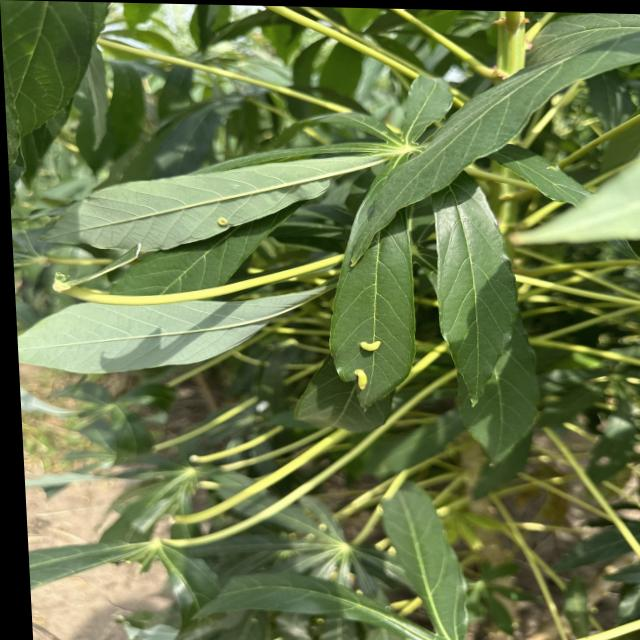Mosca: (346, 315, 394, 396), (207, 203, 249, 250)
